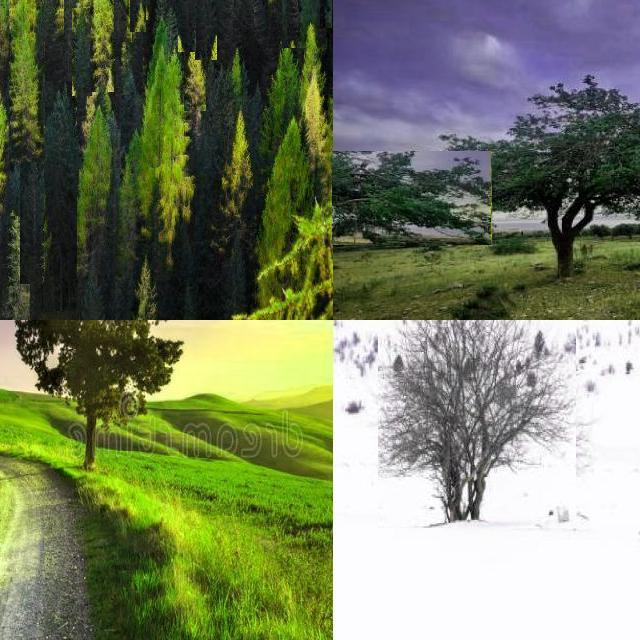tree: (378, 320, 576, 528), (460, 75, 640, 281), (9, 320, 179, 480), (332, 151, 492, 245), (43, 81, 77, 311), (70, 100, 114, 272), (9, 0, 45, 158), (217, 113, 256, 239), (274, 119, 306, 217), (0, 216, 30, 320), (20, 162, 44, 284), (46, 0, 76, 84), (223, 228, 249, 320), (90, 0, 114, 92), (125, 254, 158, 320), (121, 3, 143, 95), (273, 44, 299, 120), (318, 48, 334, 164), (219, 0, 247, 66), (72, 8, 92, 96), (184, 37, 206, 111), (174, 0, 206, 44), (74, 0, 100, 52), (298, 0, 326, 48), (195, 0, 217, 60), (305, 22, 323, 94), (20, 0, 44, 48), (124, 72, 142, 132), (254, 0, 278, 44), (1, 45, 8, 195), (231, 0, 253, 46), (108, 0, 132, 42), (22, 0, 46, 40), (242, 0, 262, 48), (178, 0, 196, 52), (44, 0, 64, 46), (275, 0, 295, 44), (179, 276, 199, 320), (106, 0, 130, 36), (282, 0, 298, 48), (129, 0, 149, 38), (44, 0, 62, 42), (0, 0, 17, 42), (234, 0, 254, 28), (302, 1, 318, 36), (0, 0, 17, 31), (154, 0, 170, 32), (130, 0, 146, 32), (0, 0, 10, 48), (106, 0, 122, 28), (60, 0, 76, 28), (100, 86, 112, 122), (278, 0, 292, 30), (326, 1, 334, 52), (130, 0, 150, 20), (320, 0, 332, 28)
